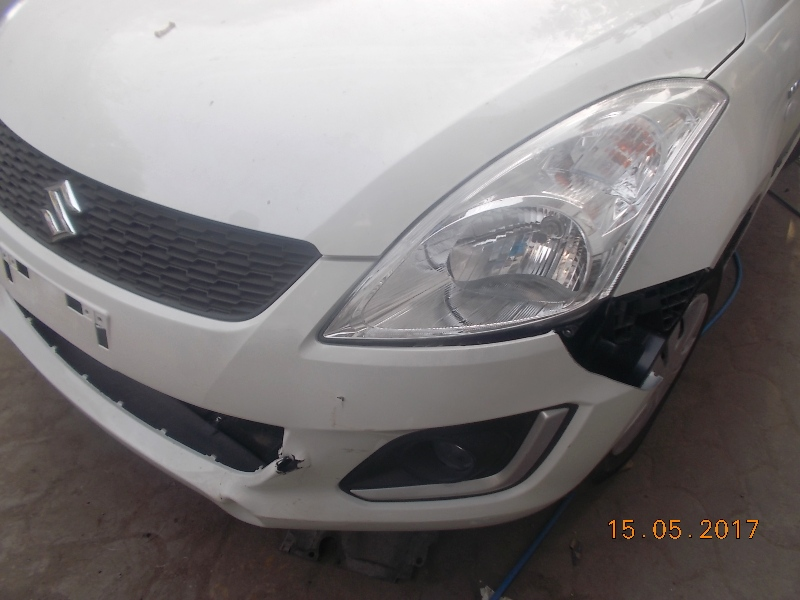Tear: (547, 315, 637, 404), (269, 453, 304, 476)
